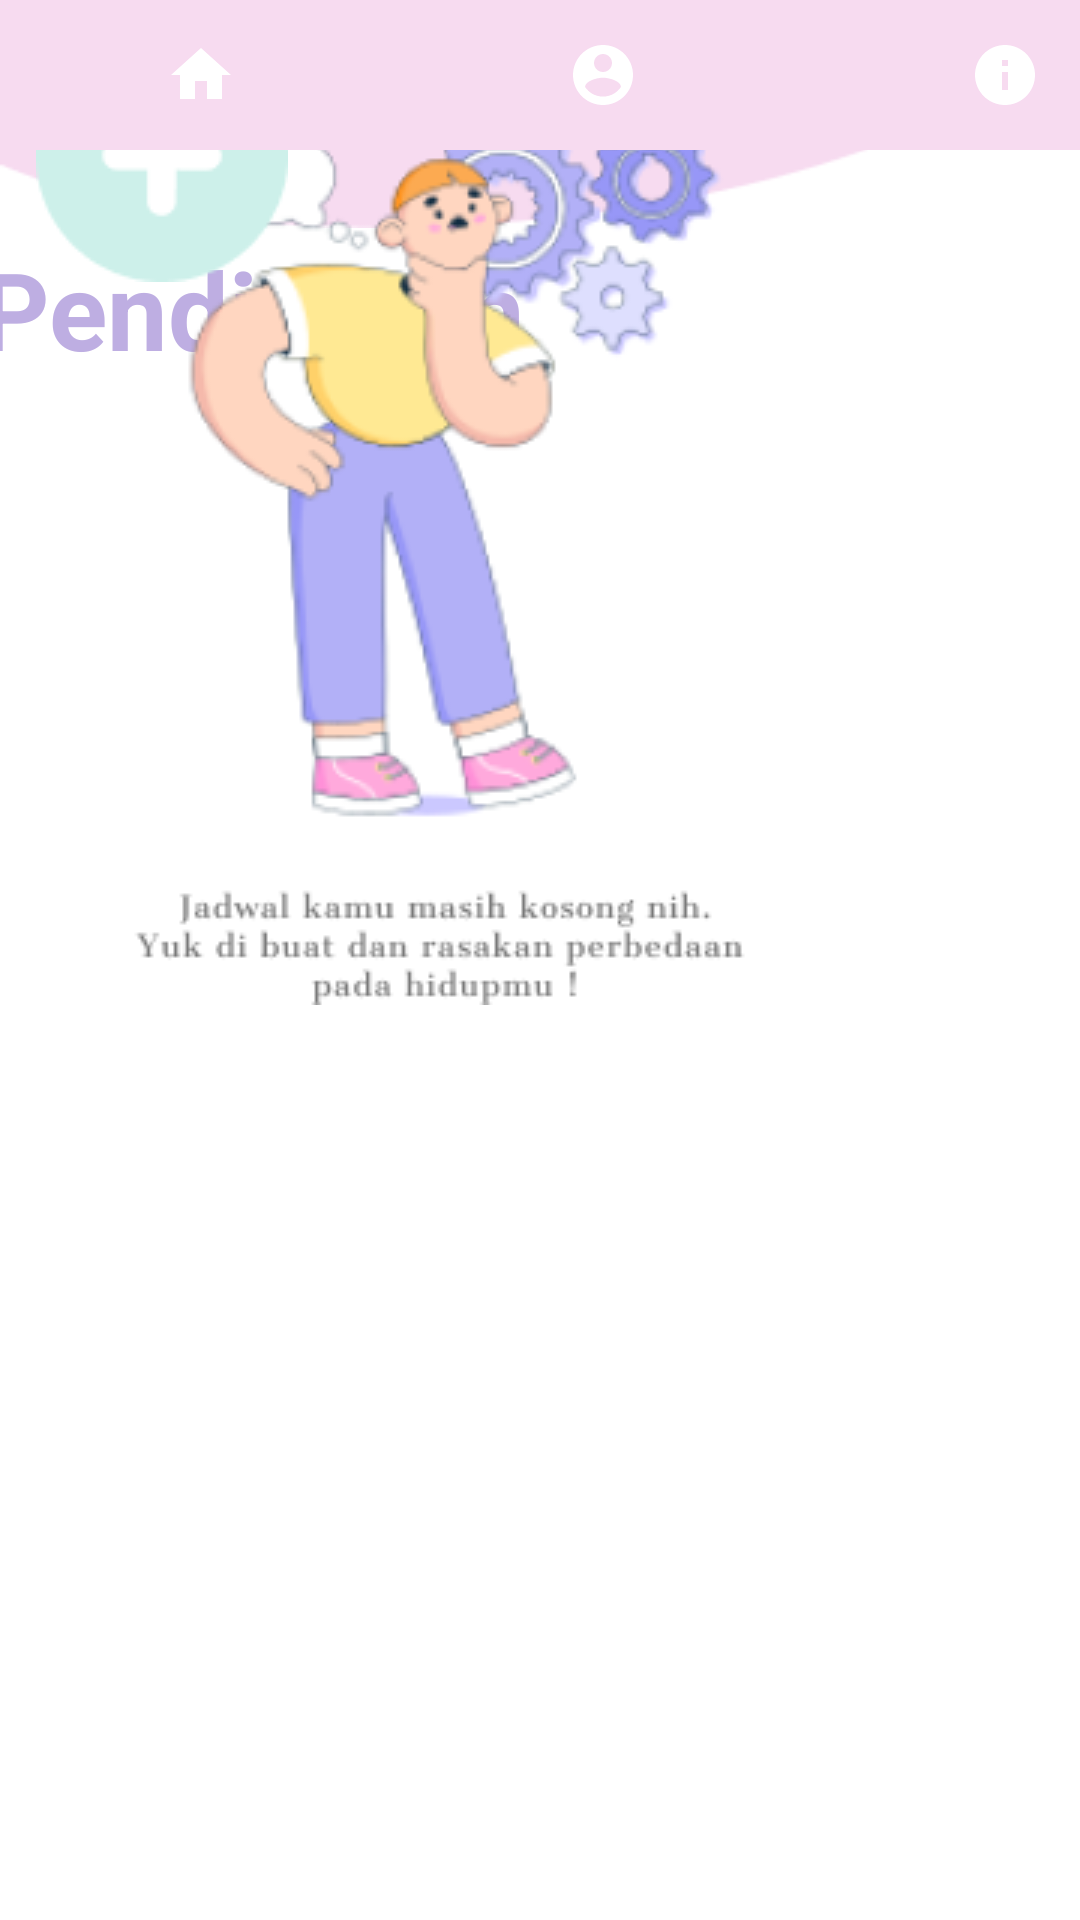

Locate icon controls on the screen. Image size 1080 × 1920, boxes as (x1, y1, x2, y2).
account circle: (573, 45, 633, 105)
info: (975, 45, 1035, 105)
